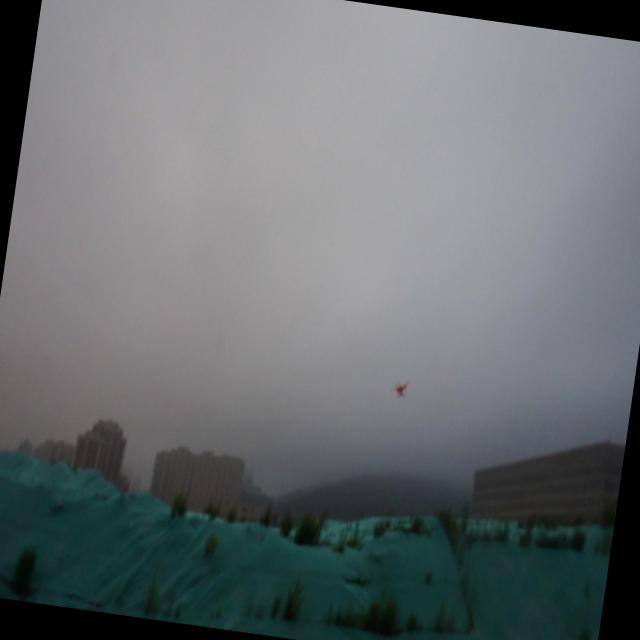drone: (392, 374, 414, 403)
